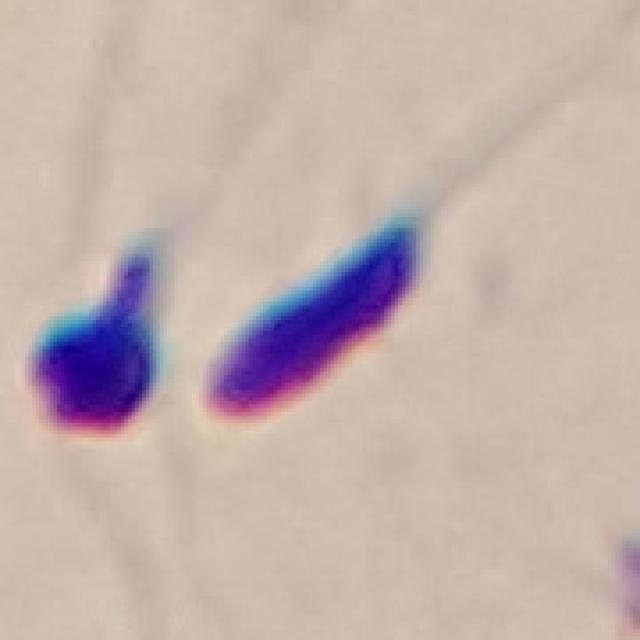abnormal sperm: (202, 145, 485, 423), (31, 170, 212, 436)
